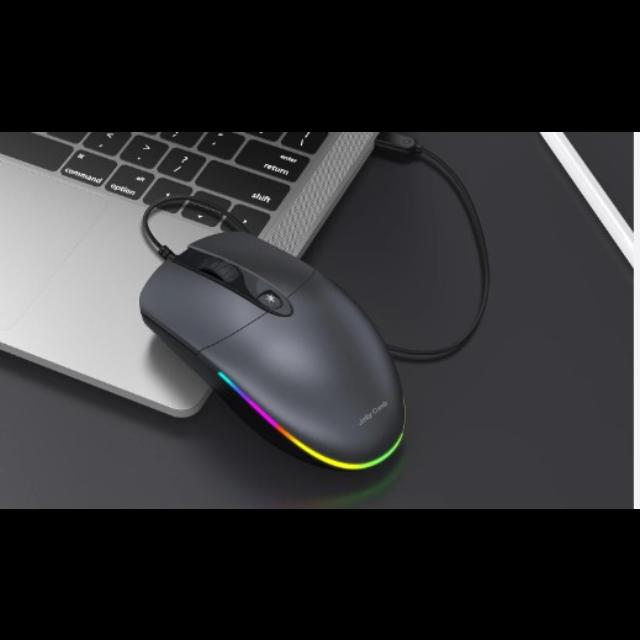Computer-Mouse: (139, 214, 406, 471)
